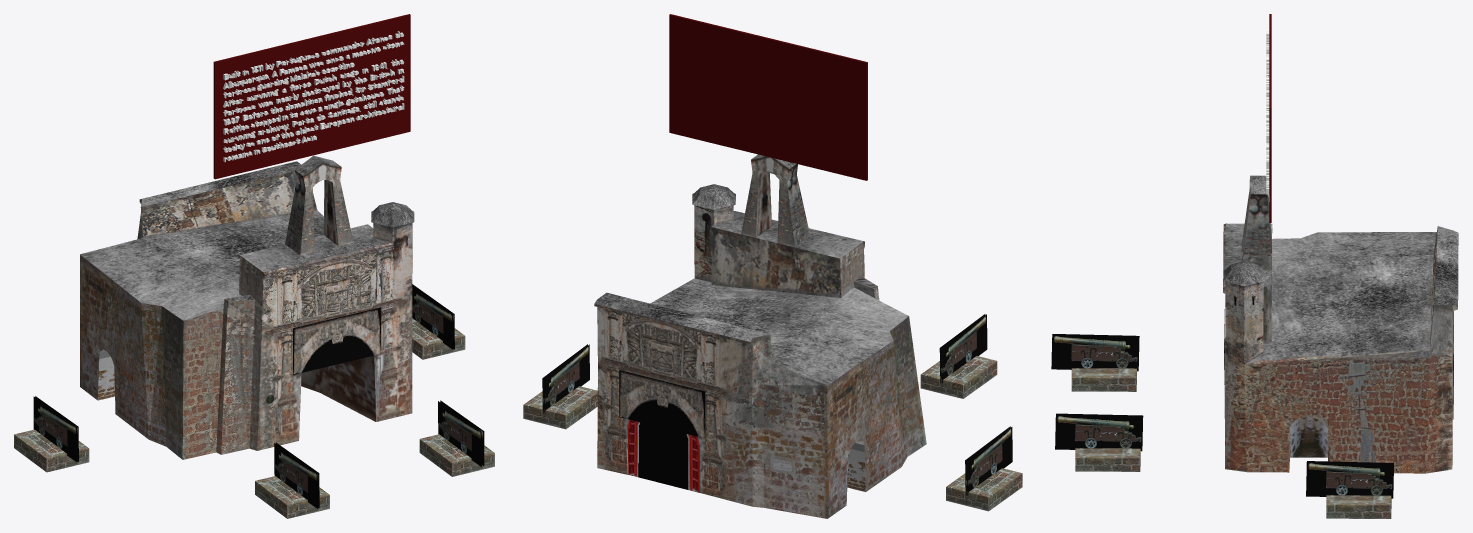
File: AFAMOSA3d-v1.glb
3 renders of one model, left to right at view 1: azimuth 30°, elevation 25°; view 2: azimuth 150°, elevation 25°; view 3: azimuth 270°, elevation 25°, orthographic. The views are drawn at different scales.
Visible parts, largest first — view 1: Group, Plane, afamsa; view 2: Group, Plane; view 3: Group, afamsa, Plane.
Part boxes in pixels (x1,y1,x2,y2): Group: [14, 155, 494, 518]; Plane: [213, 14, 410, 179]; afamsa: [223, 31, 404, 162]; Group: [523, 154, 1022, 518]; Plane: [669, 14, 867, 180]; Group: [1051, 175, 1458, 518]; afamsa: [1266, 31, 1269, 194]; Plane: [1269, 14, 1271, 222].
Bounding box in the file's own units: 6.79 × 5.55 × 5.52.
Materials: 3 (1 with a texture image).
